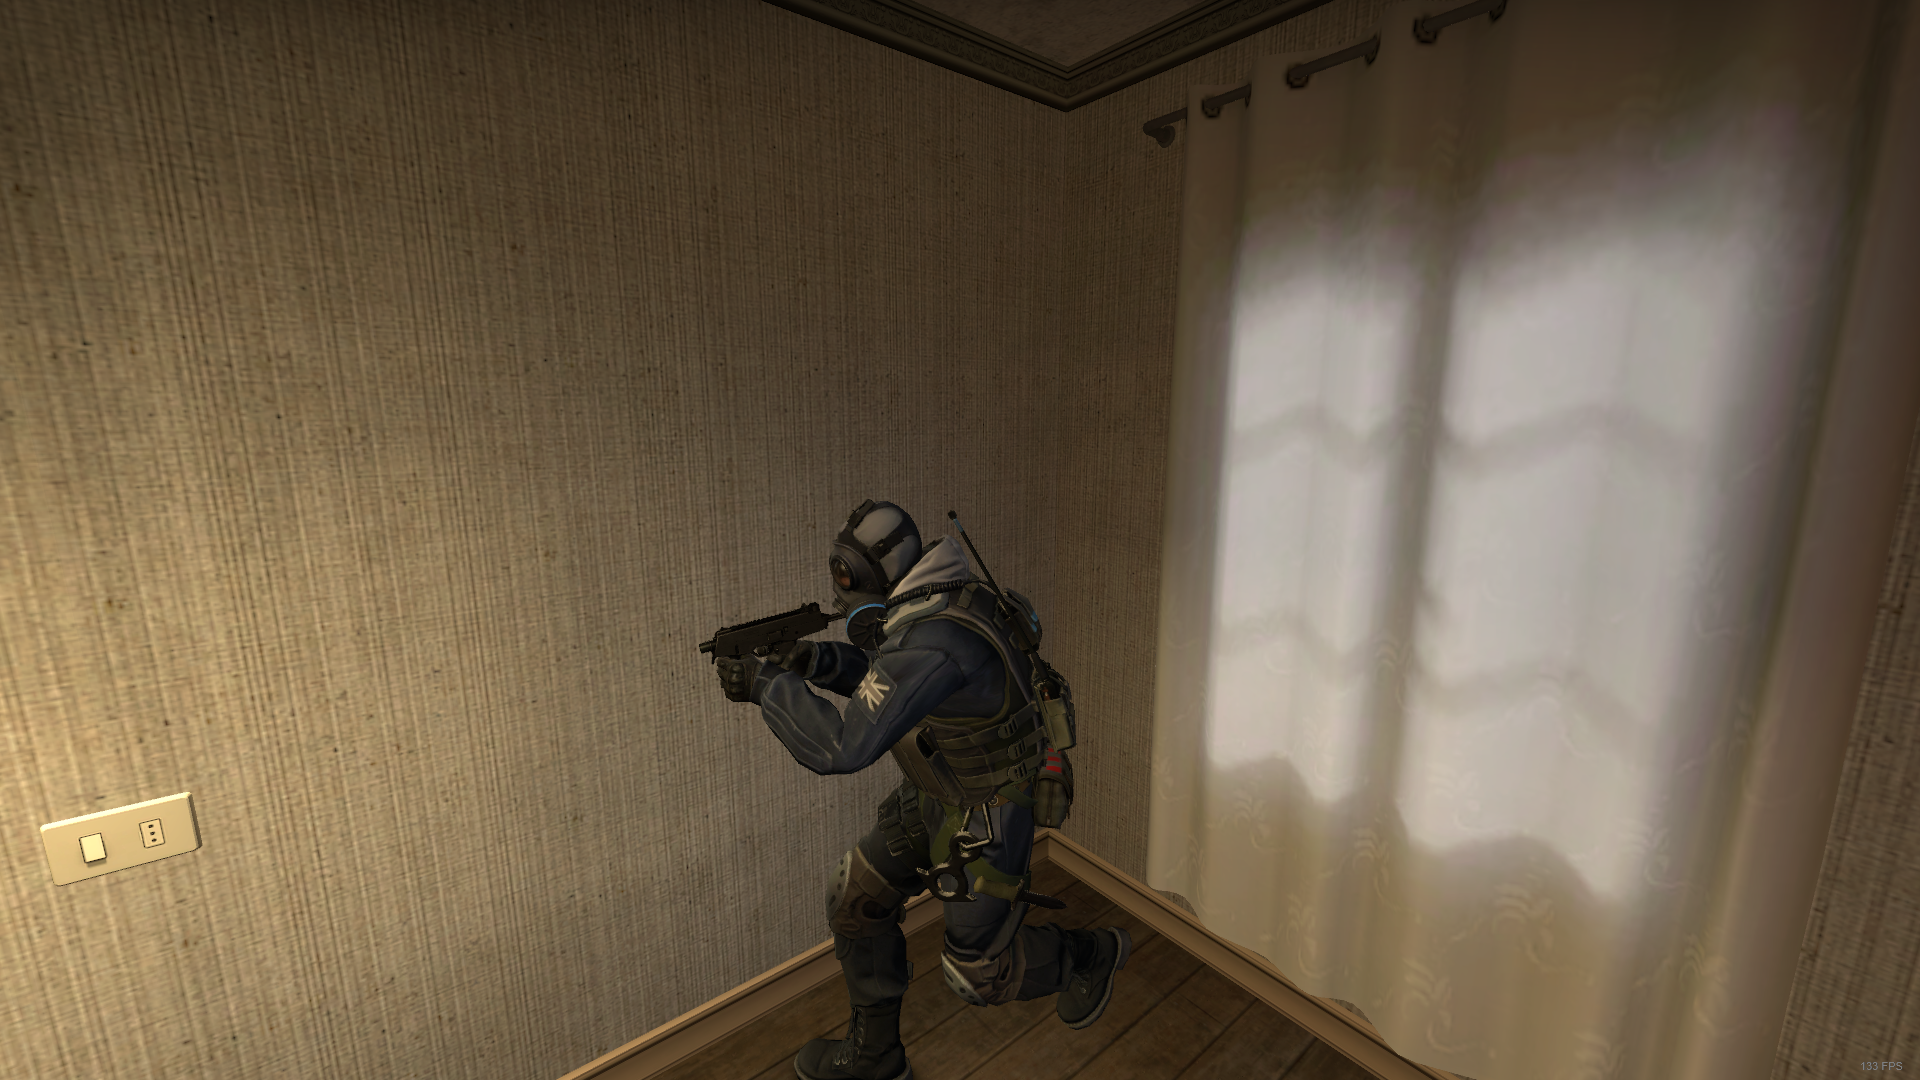ct: (756, 472, 1135, 1080)
